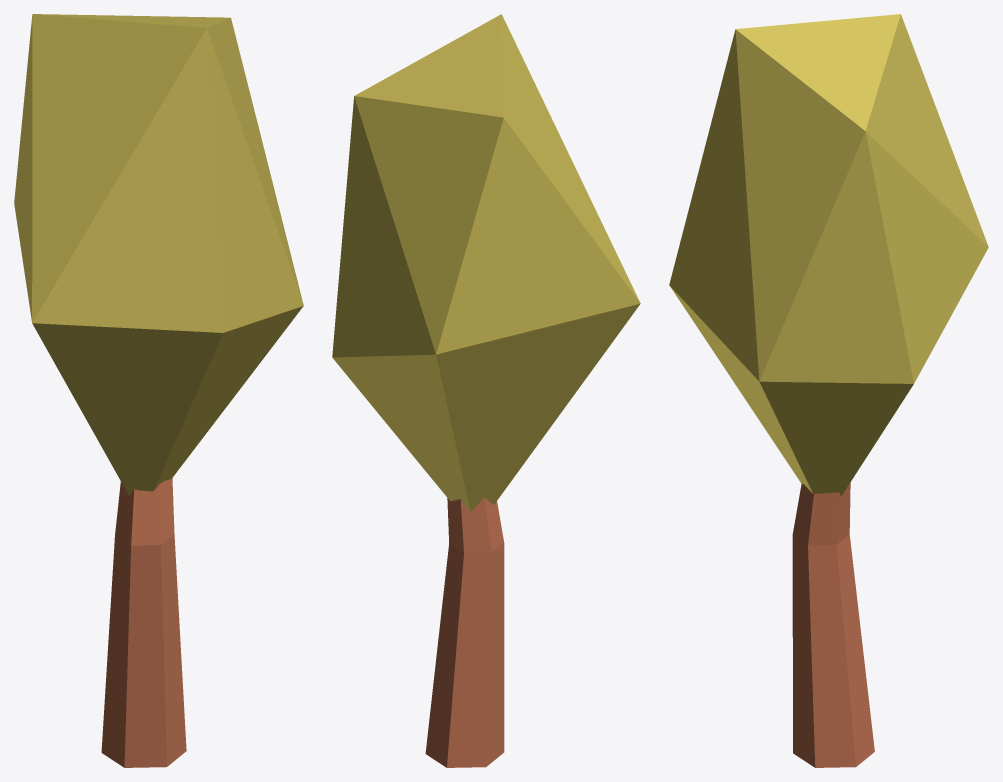
The model's file is Tree_08_autumn_mat.fbx.
The picture shows the model from 3 angles, left to right: view 1: azimuth 30°, elevation 25°; view 2: azimuth 150°, elevation 25°; view 3: azimuth 270°, elevation 25°; orthographic projection. The views are drawn at different scales.
Parts seen in each view (by area): view 1: Tree_08_autumn_mat; view 2: Tree_08_autumn_mat; view 3: Tree_08_autumn_mat.
Part boxes in pixels (<box>): Tree_08_autumn_mat: <box>14,14,303,767</box>; Tree_08_autumn_mat: <box>332,14,640,767</box>; Tree_08_autumn_mat: <box>669,14,988,767</box>.
Size of the model in its own units: 93.3 by 249 by 98.84.
